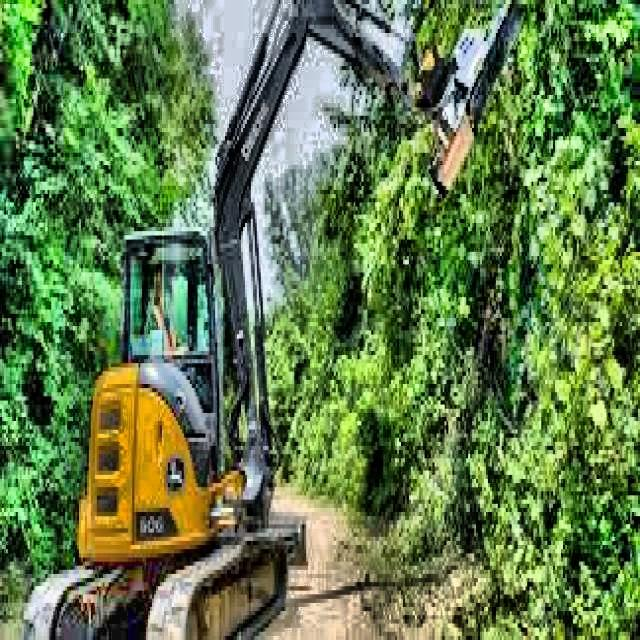bull_dozer/loader/grader: (21, 0, 534, 640)
person: (143, 266, 182, 350)
